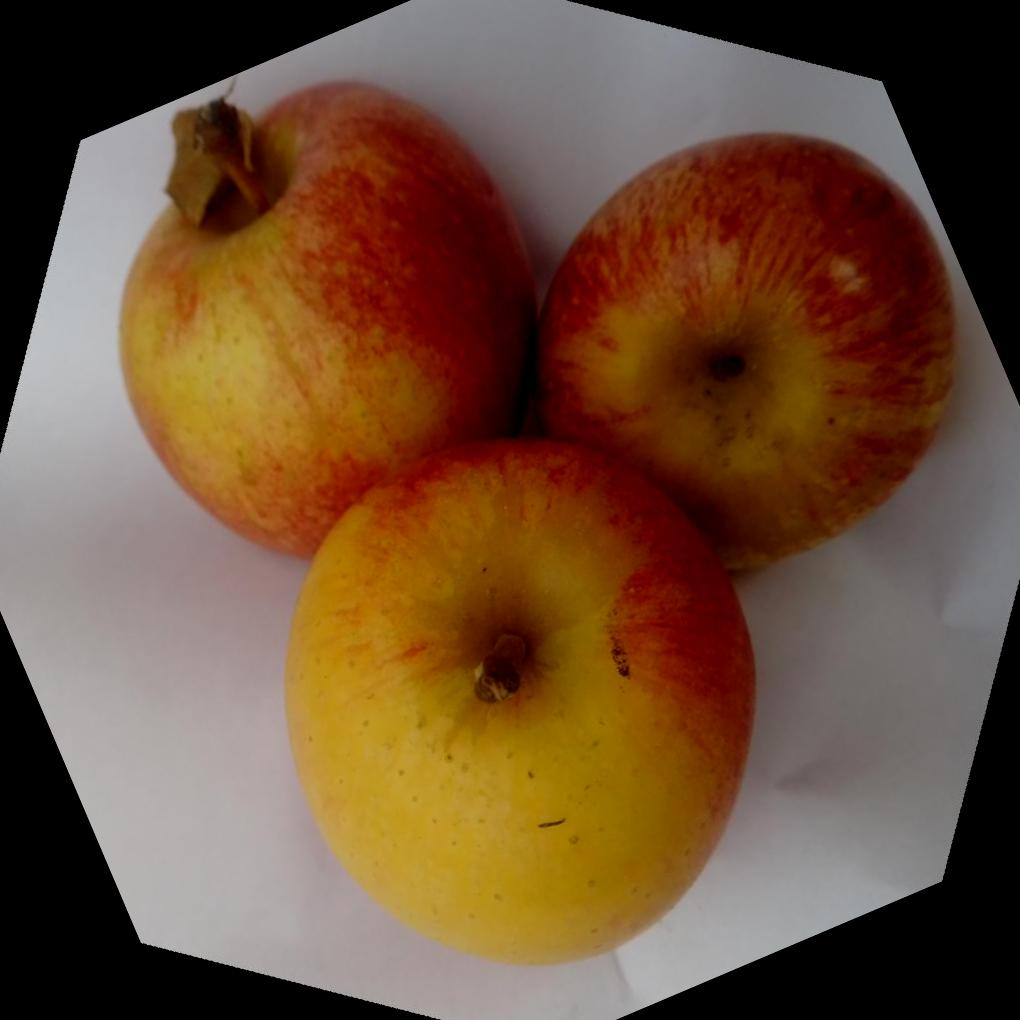FreshGuava: (115, 75, 957, 964)
